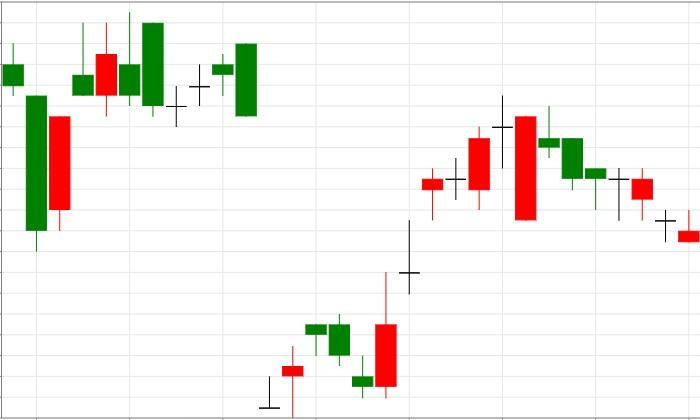bullish_engulfing_rise: (305, 271, 396, 398)
